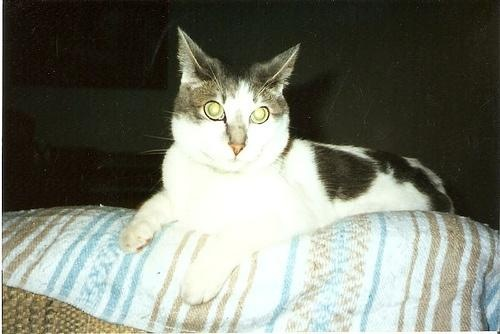cat: (118, 24, 457, 304)
